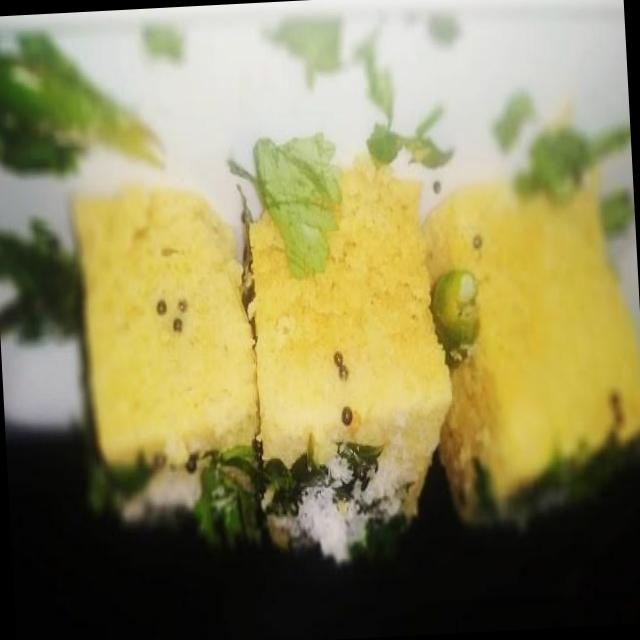dhokla: (43, 117, 640, 580)
